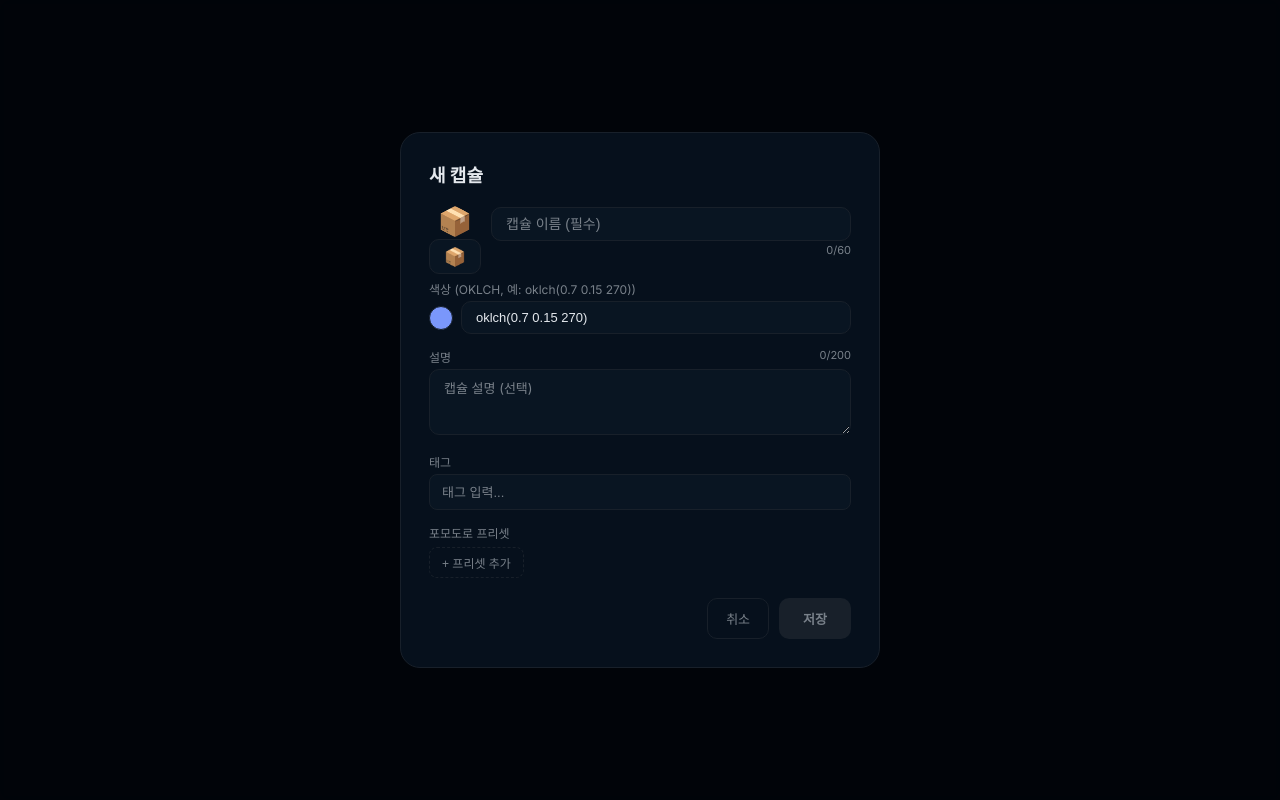
Test case: CapsuleEditModal › 저장 및 취소 › 유효한 이름 입력 후 저장 버튼이 활성화된다
The width and height of the screenshot is (1280, 800).
In the field with test id "capsule-name-input": (671, 224) [491, 207, 851, 241], type "새 캡슐 이름"
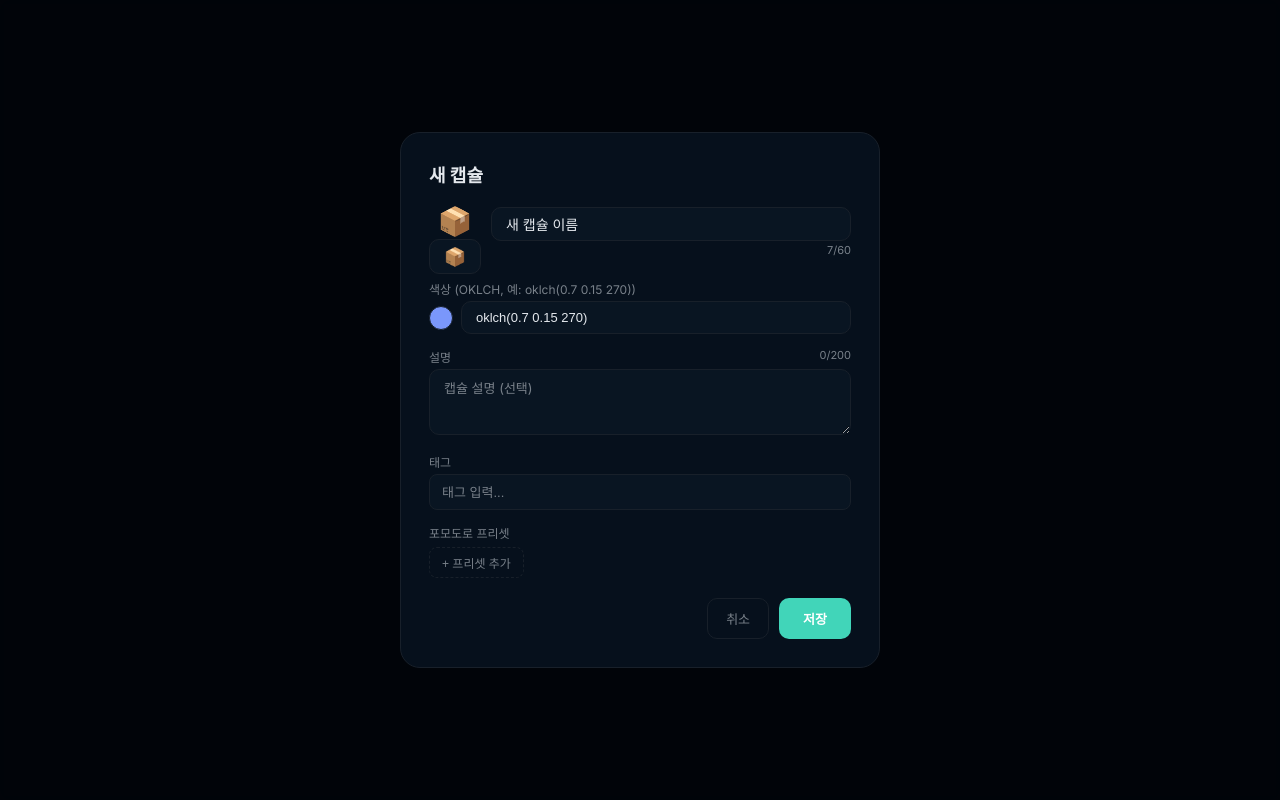
Expected: the button with test id "capsule-save-btn" is enabled, [779, 598, 851, 639]
